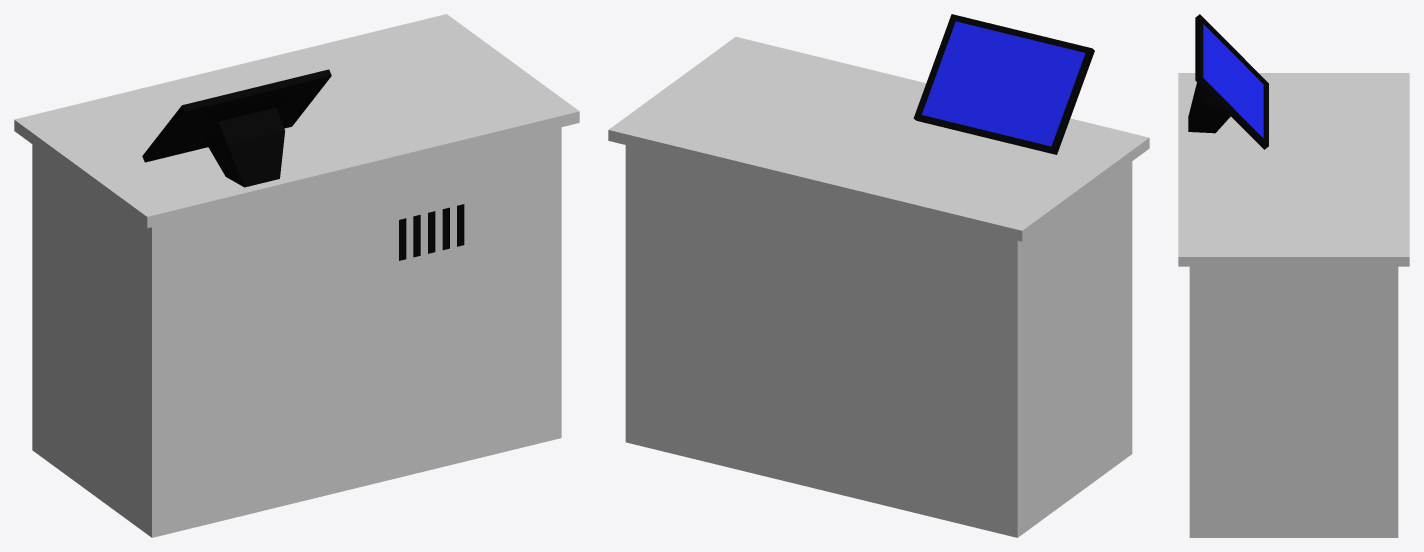
The model's file is TeachDesk.gltf.
The picture shows the model from 3 angles, left to right: view 1: azimuth 30°, elevation 25°; view 2: azimuth 150°, elevation 25°; view 3: azimuth 270°, elevation 25°; orthographic projection. The views are drawn at different scales.
Parts seen in each view (by area): view 1: Cube.005; view 2: Cube.005; view 3: Cube.005.
Part boxes in pixels (x1,y1,x2,y2): Cube.005: (14,14,579,537); Cube.005: (608,14,1149,537); Cube.005: (1178,14,1409,537).
Bounding box in the file's own units: 1.89 × 1.75 × 1.
